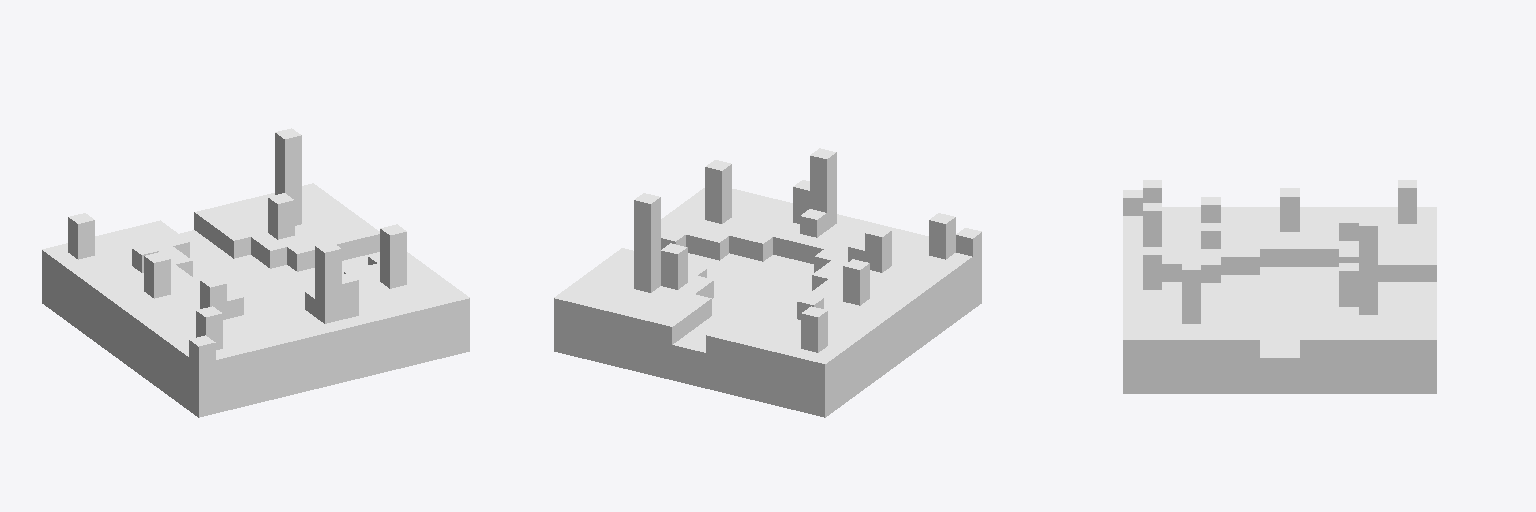
File: Corner2.obj
The picture shows the model from 3 angles: view 1: azimuth 30°, elevation 25°; view 2: azimuth 150°, elevation 25°; view 3: azimuth 270°, elevation 25°; orthographic projection.
Visible parts, largest first — view 1: CaveCorner2; view 2: CaveCorner2; view 3: CaveCorner2.
Boxes of the visible parts, box(x1,y1,x2,y2) form: CaveCorner2: box(42, 128, 469, 417); CaveCorner2: box(554, 148, 981, 417); CaveCorner2: box(1123, 180, 1436, 393).
Bounding box in the file's own units: 16 × 8 × 16.